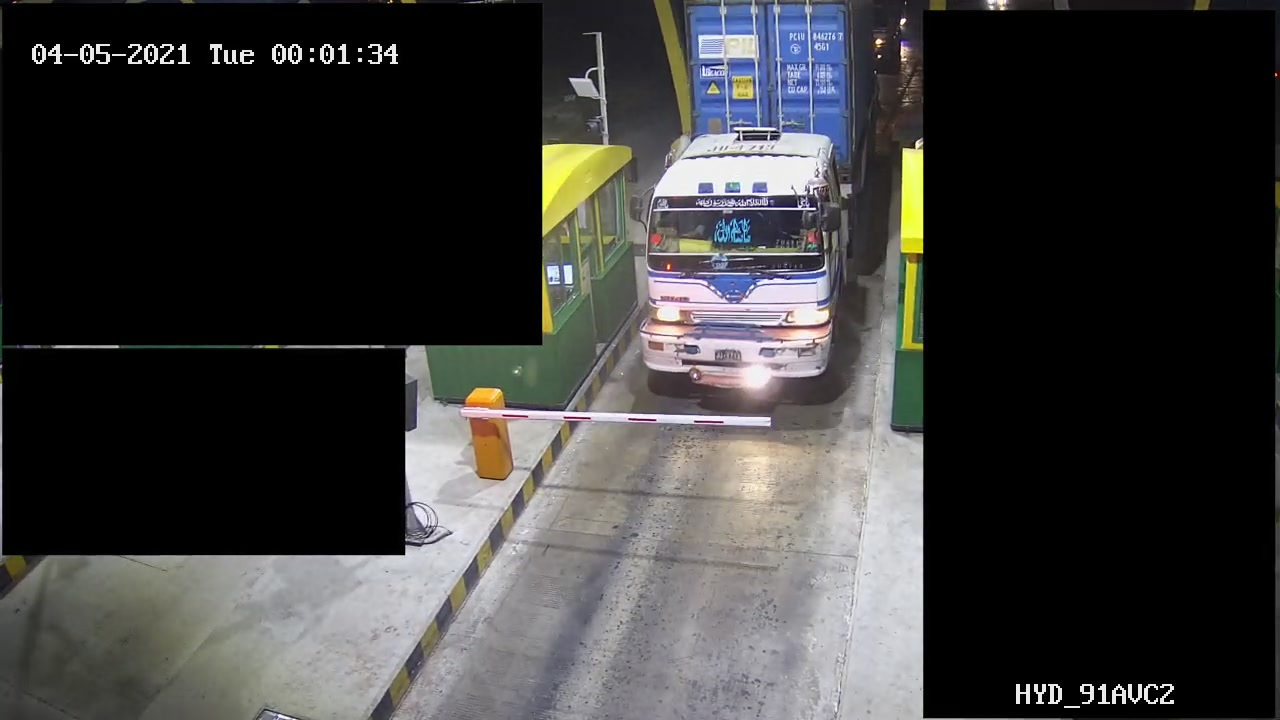F6: (634, 1, 875, 402)
